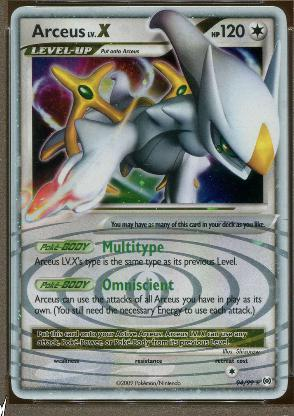Card: (7, 2, 289, 404)
